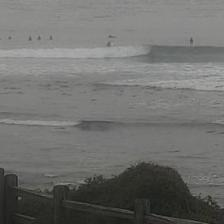surfer: (106, 42, 112, 47), (108, 35, 117, 38), (27, 36, 32, 41), (190, 37, 194, 43), (38, 35, 42, 39), (8, 36, 12, 40), (50, 35, 53, 40)
